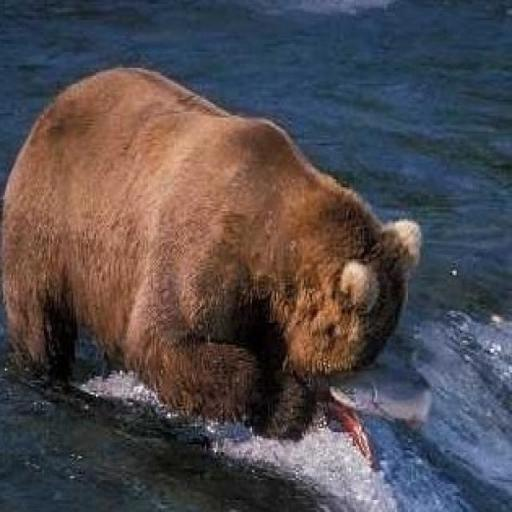Bear: (0, 63, 422, 465)
